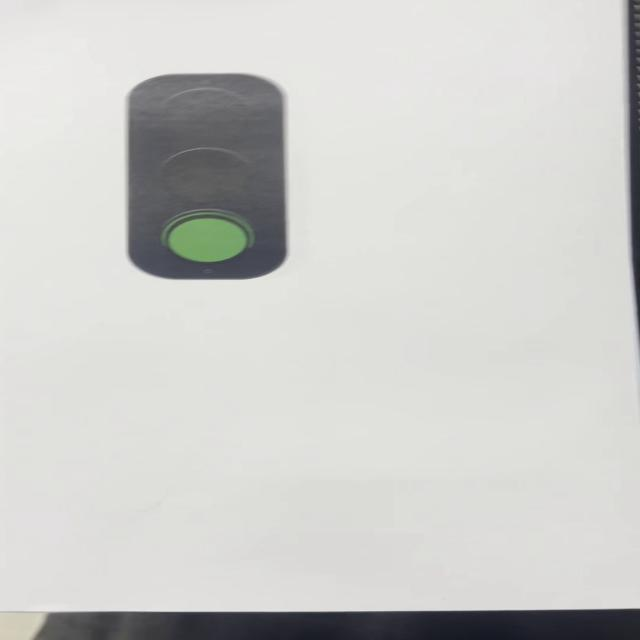green: (123, 73, 295, 284)
